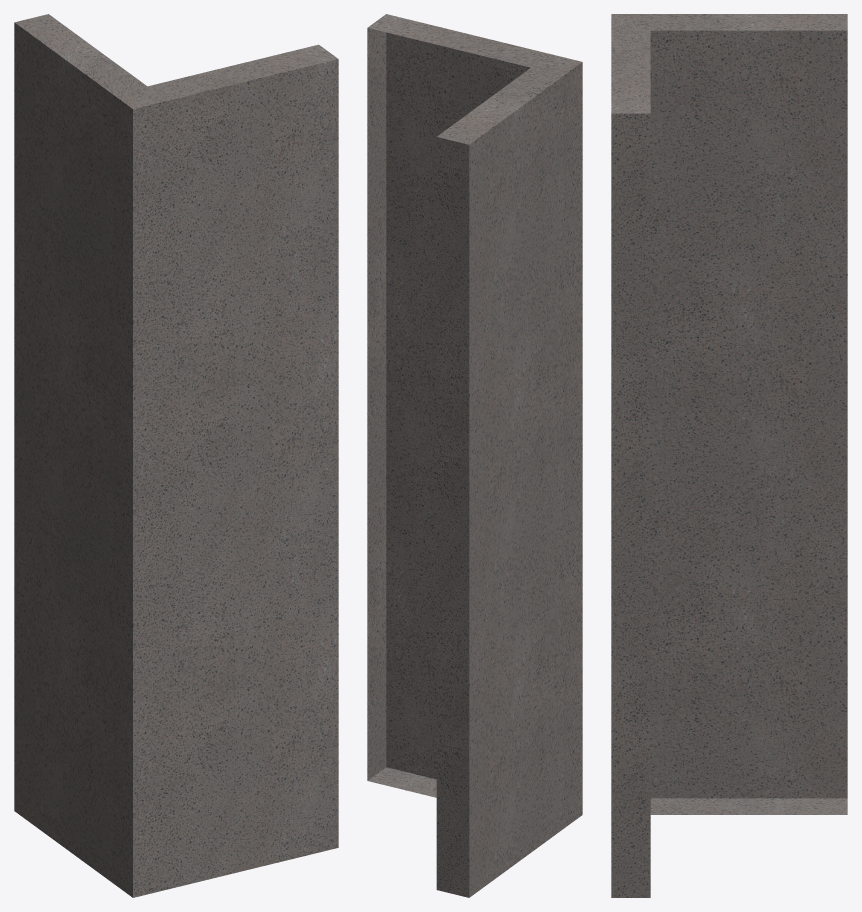
Rendered from window_002_001_7.gltf.
3 renders of one model, left to right at view 1: azimuth 30°, elevation 25°; view 2: azimuth 150°, elevation 25°; view 3: azimuth 270°, elevation 25°, orthographic. The views are drawn at different scales.
Parts seen in each view (by area): view 1: Window_002.001_7; view 2: Window_002.001_7; view 3: Window_002.001_7.
Boxes of the visible parts, <box> form: Window_002.001_7: <box>14,14,338,897</box>; Window_002.001_7: <box>367,14,582,897</box>; Window_002.001_7: <box>611,14,847,897</box>.
Size of the model in its own units: 0.6 by 2.2 by 0.6.
1 material, 1 textured.
